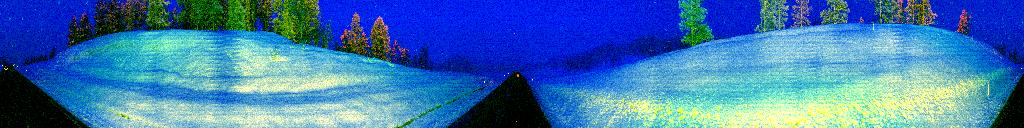pole: (985, 78, 992, 114)
